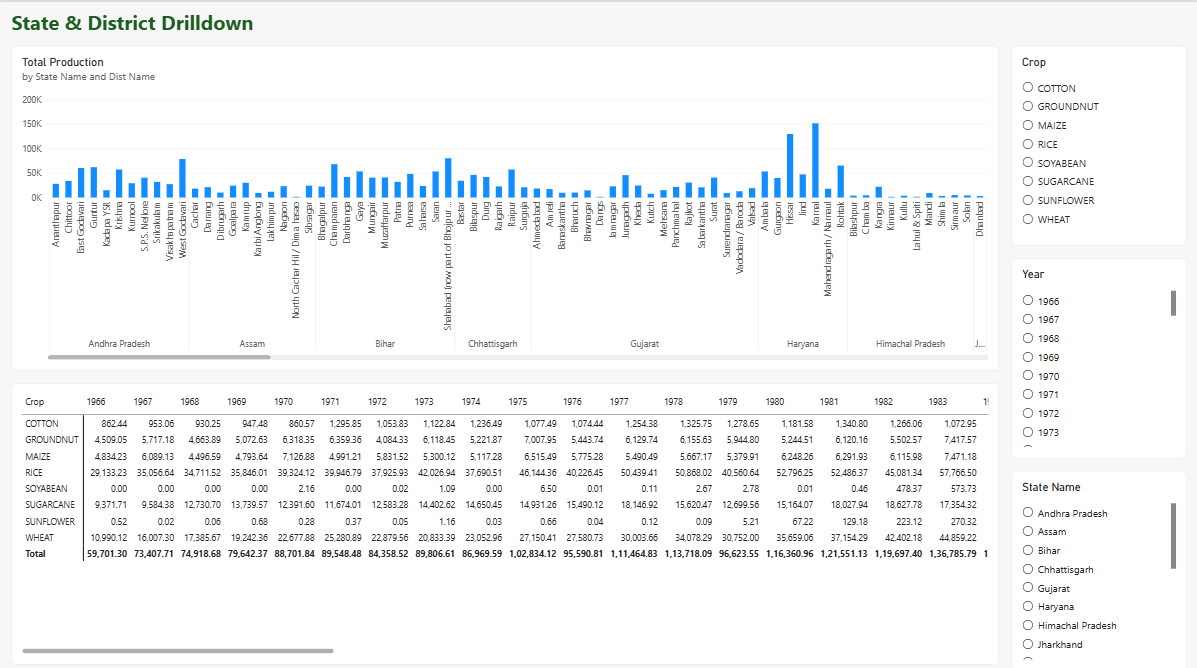

This screenshot's page, from the dashboard's own definition file:
{"tool":"powerbi","page":{"name":"State & District Drilldown","canvas":[1920,1080],"ordinal":1},"visuals":[{"type":"textbox","box":[20,10,1880,50],"z":0},{"type":"clusteredColumnChart","fields":{"Category":["Fact_CropProduction.State Name","Fact_CropProduction.Dist Name"],"Y":["Fact_CropProduction.Total Production"]},"box":[20,70,1580,520],"z":1000},{"type":"pivotTable","fields":{"Columns":["Dim_Year.Year"],"Rows":["Dim_Crop.Crop"],"Values":["Fact_CropProduction.Total Production"]},"box":[20,610,1580,450],"z":2000},{"type":"listSlicer","fields":{"Values":["Dim_Crop.Crop"]},"box":[1620,70,280,320],"z":3000},{"type":"listSlicer","fields":{"Values":["Dim_Year.Year"]},"box":[1620,410,280,320],"z":4000},{"type":"listSlicer","fields":{"Values":["Fact_CropProduction.State Name"]},"box":[1620,750,280,320],"z":5000}]}

Visuals, with their boxes in screenshot pixels (x1, y1, x2, y2), scaled from the page's 1920x1080 canvas onto the 1197x668 screenshot:
textbox: x1=12, y1=6, x2=1185, y2=37
clusteredColumnChart - Fact_CropProduction.State Name x Fact_CropProduction.Dist Name: x1=12, y1=43, x2=998, y2=365
pivotTable - Dim_Year.Year x Dim_Crop.Crop: x1=12, y1=377, x2=998, y2=656
listSlicer - Dim_Crop.Crop: x1=1010, y1=43, x2=1185, y2=241
listSlicer - Dim_Year.Year: x1=1010, y1=254, x2=1185, y2=452
listSlicer - Fact_CropProduction.State Name: x1=1010, y1=464, x2=1185, y2=662
